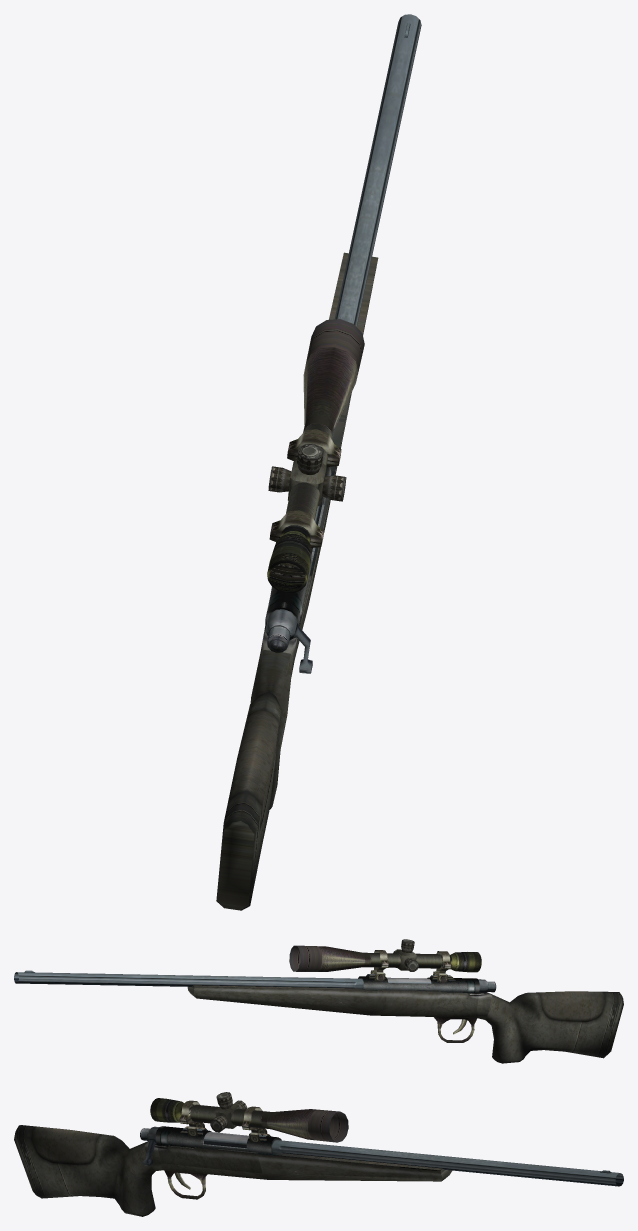
3 views of the same model, one above another, from view 1: azimuth 30°, elevation 25°; view 2: azimuth 150°, elevation 25°; view 3: azimuth 270°, elevation 25° (orthographic). The views are drawn at different scales.
Visible parts, largest first — view 1: _w300_1st; view 2: _w300_1st; view 3: _w300_1st.
Part boxes in pixels (x1,y1,x2,y2): _w300_1st: (216, 14, 421, 910); _w300_1st: (14, 939, 623, 1063); _w300_1st: (14, 1092, 623, 1216).
Size of the model in its own units: 0.8276 by 0.4116 by 1.07.
2 materials, 2 textured.
